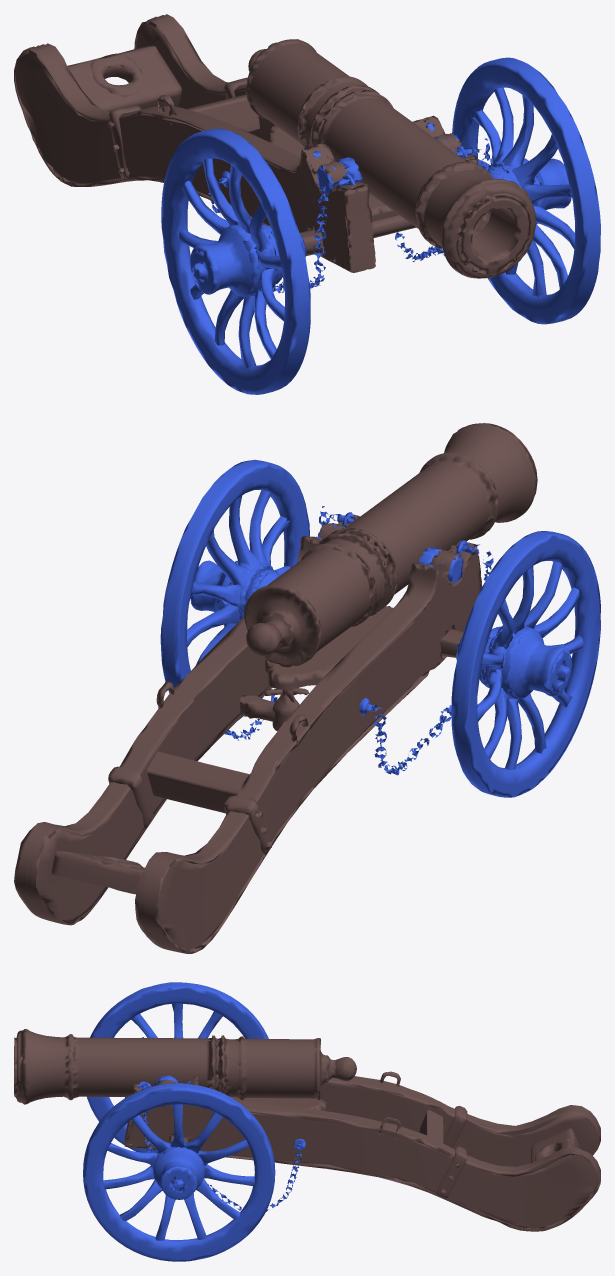
Rendered from pushka2New.fbx.
3 views of the same model, one above another, from view 1: azimuth 30°, elevation 25°; view 2: azimuth 150°, elevation 25°; view 3: azimuth 270°, elevation 25° (orthographic). The views are drawn at different scales.
Parts seen in each view (by area): view 1: Circle.001; view 2: Circle.001; view 3: Circle.001.
Part boxes in pixels (x1,y1,x2,y2): Circle.001: (14,14,600,394); Circle.001: (14,423,600,953); Circle.001: (14,982,600,1261).
Bounding box in the file's own units: 339 × 216 × 652.
